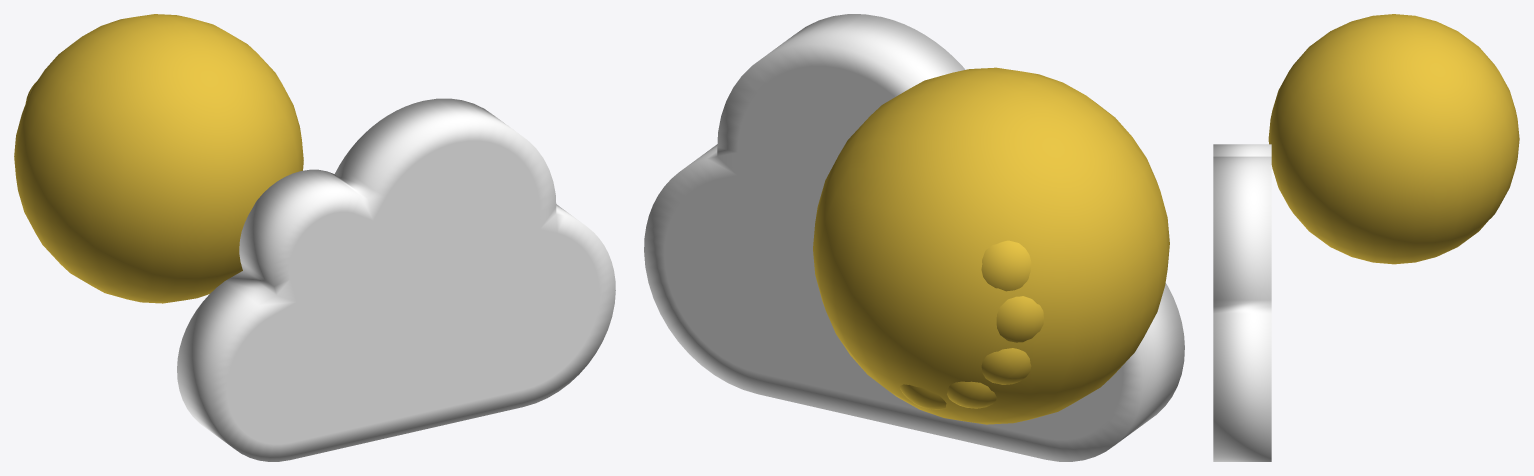
File: sunny.glb
The picture shows the model from 3 angles, left to right: view 1: azimuth 30°, elevation 25°; view 2: azimuth 150°, elevation 25°; view 3: azimuth 270°, elevation 25°; orthographic projection. The views are drawn at different scales.
Visible parts, largest first — view 1: Curve, Roundcube.002; view 2: Roundcube.002, Curve, Roundcube.003, Roundcube.001, Roundcube.004, Roundcube.005, Roundcube.006; view 3: Roundcube.002, Curve.
Part boxes in pixels (x1=…): Curve: x1=177, y1=98, x2=615, y2=461; Roundcube.002: x1=14, y1=14, x2=303, y2=303; Roundcube.002: x1=813, y1=67, x2=1169, y2=424; Curve: x1=644, y1=14, x2=1184, y2=461; Roundcube.003: x1=981, y1=240, x2=1031, y2=291; Roundcube.001: x1=996, y1=296, x2=1043, y2=342; Roundcube.004: x1=981, y1=348, x2=1031, y2=384; Roundcube.005: x1=947, y1=381, x2=996, y2=408; Roundcube.006: x1=900, y1=384, x2=946, y2=409; Roundcube.002: x1=1268, y1=14, x2=1519, y2=264; Curve: x1=1213, y1=144, x2=1271, y2=461.
Size of the model in its own units: 2.15 by 1.57 by 1.38.
